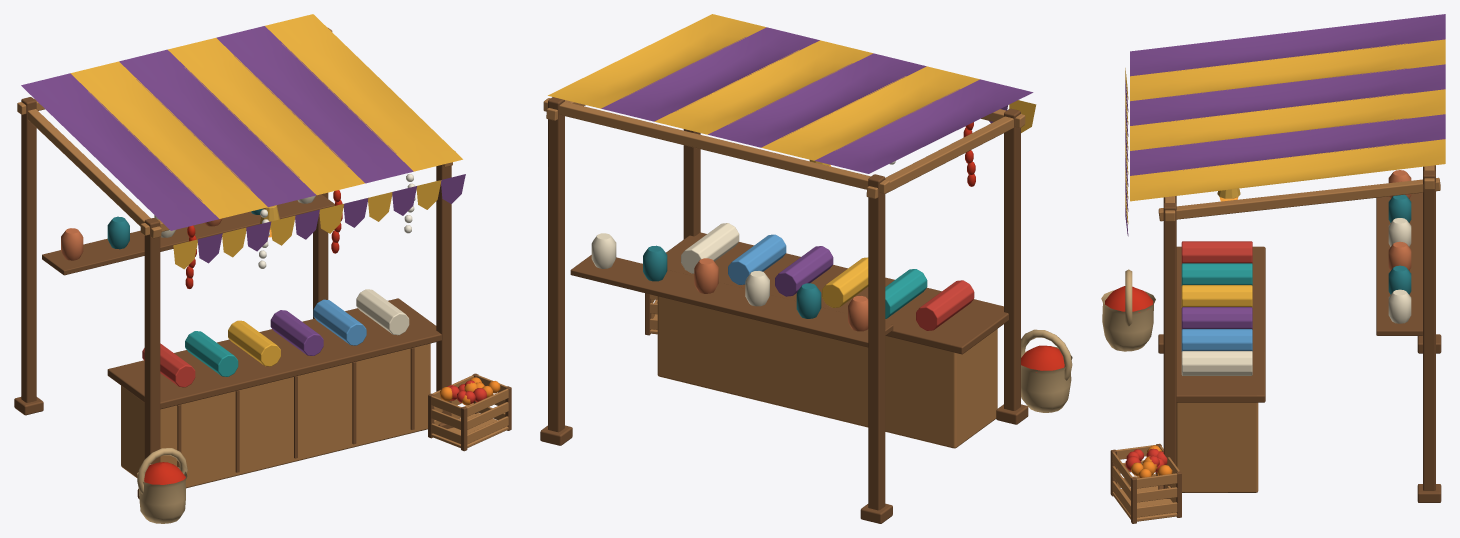
Rendered from mk_stall_cloth.glb.
The picture shows the model from 3 angles, left to right: view 1: azimuth 30°, elevation 25°; view 2: azimuth 150°, elevation 25°; view 3: azimuth 270°, elevation 25°; orthographic projection. The views are drawn at different scales.
Visible parts, largest first — view 1: mk_stall_cloth_body; view 2: mk_stall_cloth_body; view 3: mk_stall_cloth_body.
Part boxes in pixels (box(x1,y1,x2,y2)): mk_stall_cloth_body: box(14, 14, 511, 523); mk_stall_cloth_body: box(540, 14, 1072, 523); mk_stall_cloth_body: box(1101, 14, 1445, 523).
Bounding box in the file's own units: 3.87 × 3.14 × 2.92.
